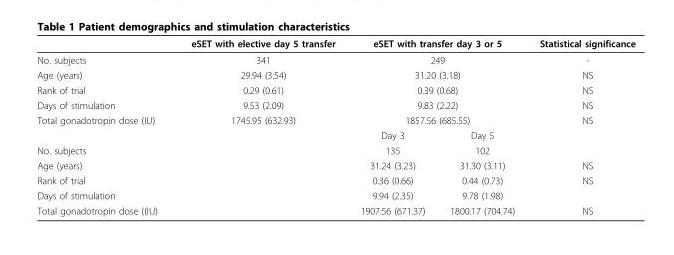table: (36, 37, 634, 215)
table column: (173, 37, 347, 215), (36, 37, 173, 215), (526, 37, 634, 215), (436, 37, 526, 215), (347, 37, 436, 215)
table column header: (36, 37, 634, 51)
table row: (36, 51, 634, 67), (36, 67, 634, 82), (36, 82, 634, 97), (36, 97, 634, 112), (36, 112, 634, 127), (36, 127, 634, 142), (36, 142, 634, 157), (36, 157, 634, 172), (36, 172, 634, 187), (36, 187, 634, 202), (36, 37, 634, 51), (36, 202, 634, 215)
table spanning cell: (36, 112, 173, 142), (347, 51, 526, 67), (347, 67, 526, 82), (347, 82, 526, 97), (347, 97, 526, 112), (347, 112, 526, 127), (347, 37, 526, 51)
